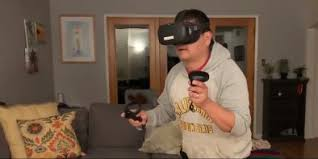oculus: (156, 21, 206, 46)
